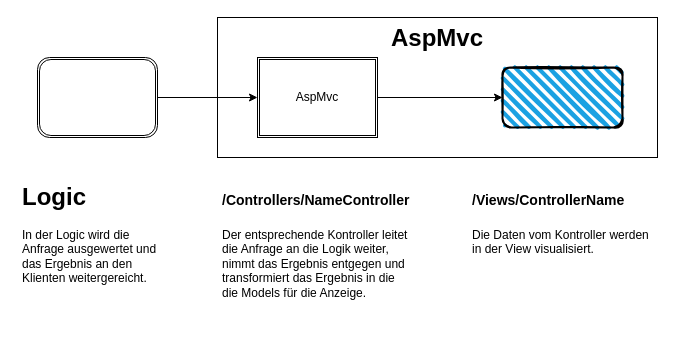
Some shapes in this 675 by 355 pixel diagram are drawn without their labels. Each missing label, with the centre of its shape:
"Logic" belongs at pixel 97 97.
"View" belongs at pixel 562 97.
